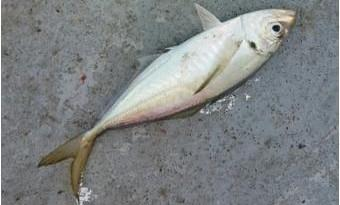fish: (38, 2, 299, 197)
